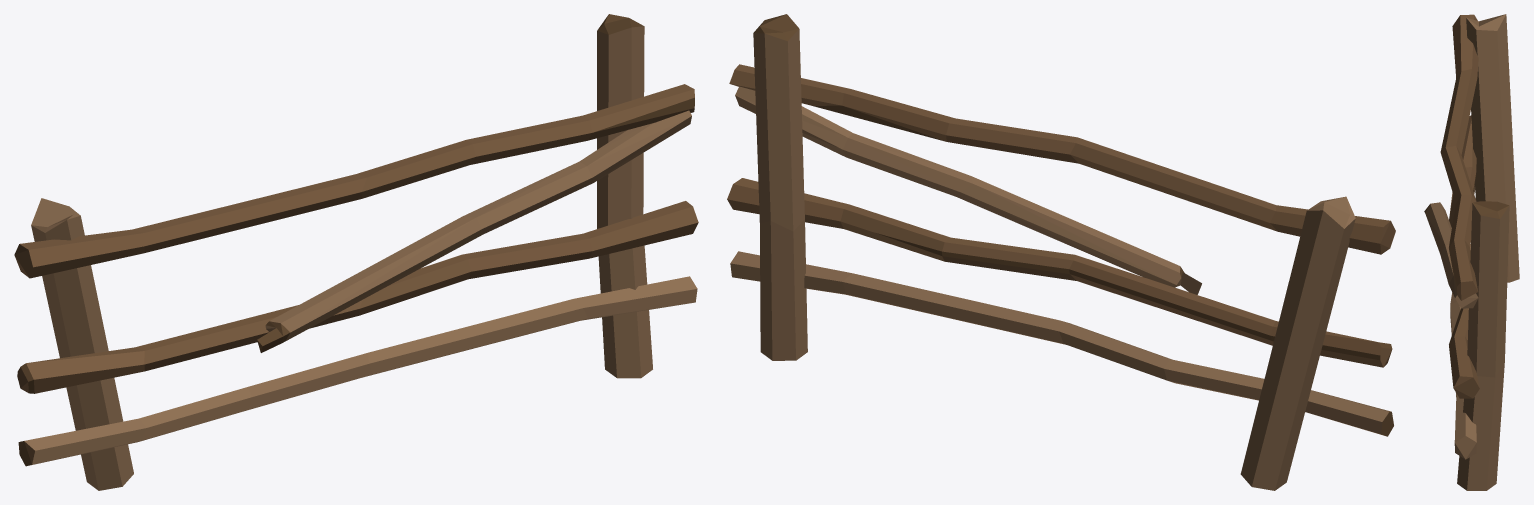
File: EM_wood_fence3c.fbx
The picture shows the model from 3 angles, left to right: view 1: azimuth 30°, elevation 25°; view 2: azimuth 150°, elevation 25°; view 3: azimuth 270°, elevation 25°; orthographic projection. The views are drawn at different scales.
Visible parts, largest first — view 1: EM_wood_fence3c_LOD0; view 2: EM_wood_fence3c_LOD0; view 3: EM_wood_fence3c_LOD0.
Part boxes in pixels (left/top/right/bottom): EM_wood_fence3c_LOD0: left=14, top=14, right=698, bottom=490; EM_wood_fence3c_LOD0: left=727, top=14, right=1395, bottom=490; EM_wood_fence3c_LOD0: left=1424, top=14, right=1519, bottom=490.
Size of what is drawn, in the model's own units: 2.66 by 1.31 by 0.4023.
